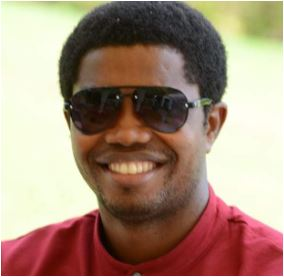without_facemask: (76, 139, 205, 231)
